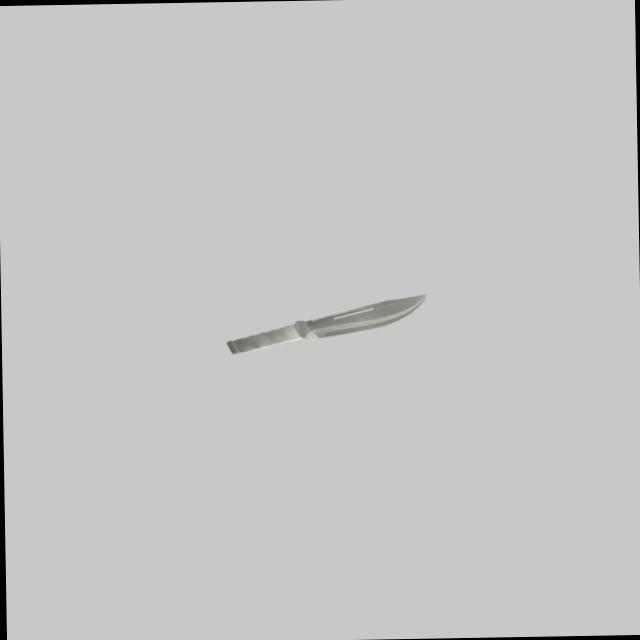knife: (225, 322, 312, 354)
